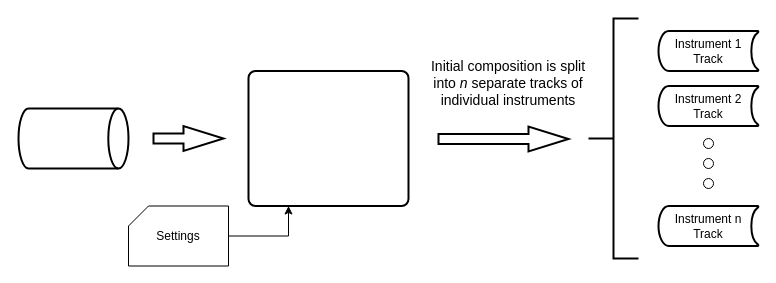
Image size: 776x283. Some labels were removed from this diagram. Here are the shapes that lost their labels. From the top down, the box of each, then its label:
(17, 107, 129, 169): Musical composition
(247, 70, 409, 206): Track decomposition app
